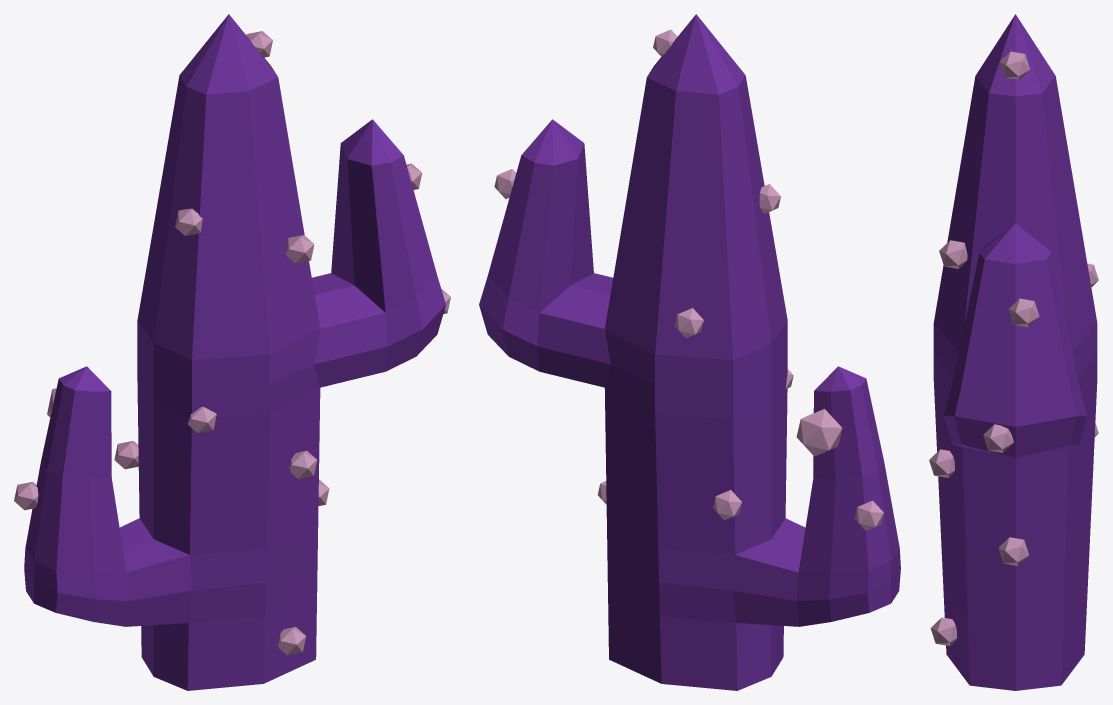
The model's file is 01_01Cactus_Purple.fbx.
3 views of the same model, side by side, from view 1: azimuth 30°, elevation 25°; view 2: azimuth 150°, elevation 25°; view 3: azimuth 270°, elevation 25° (orthographic).
Visible parts, largest first — view 1: Cube.014; view 2: Cube.014; view 3: Cube.014.
Part boxes in pixels (left/top/right/bottom): Cube.014: left=14, top=14, right=450, bottom=690; Cube.014: left=479, top=14, right=900, bottom=690; Cube.014: left=929, top=14, right=1098, bottom=690.
Bounding box in the file's own units: 93.75 × 141 × 33.78.
